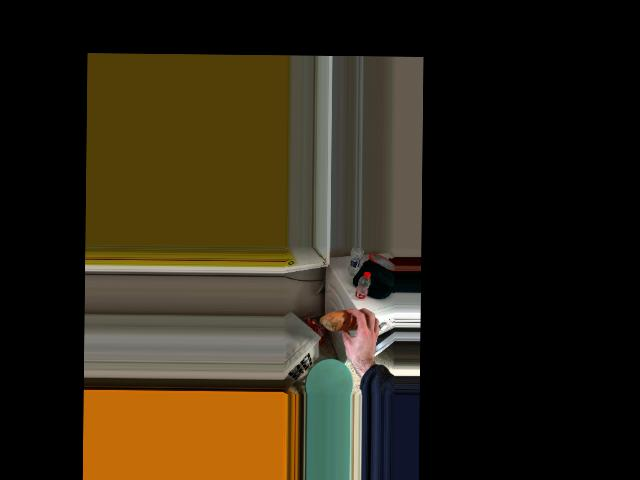sweet_potato: (328, 309, 359, 331)
